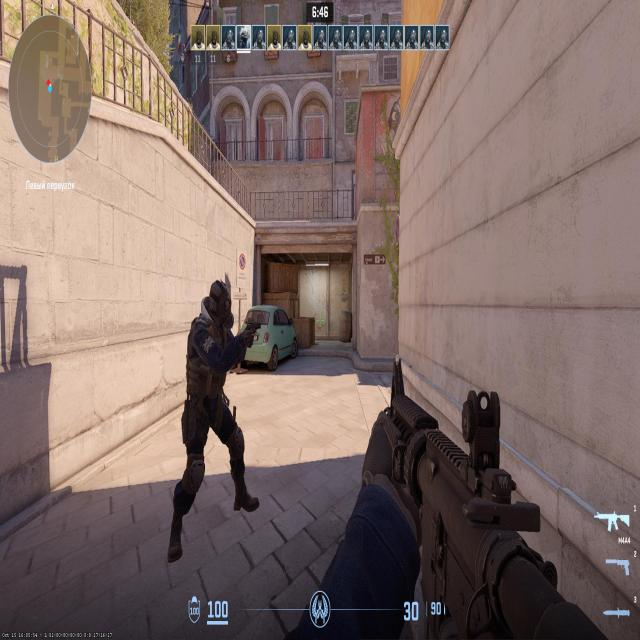CT: (190, 286, 243, 489)
CT_heat: (205, 287, 229, 328)
